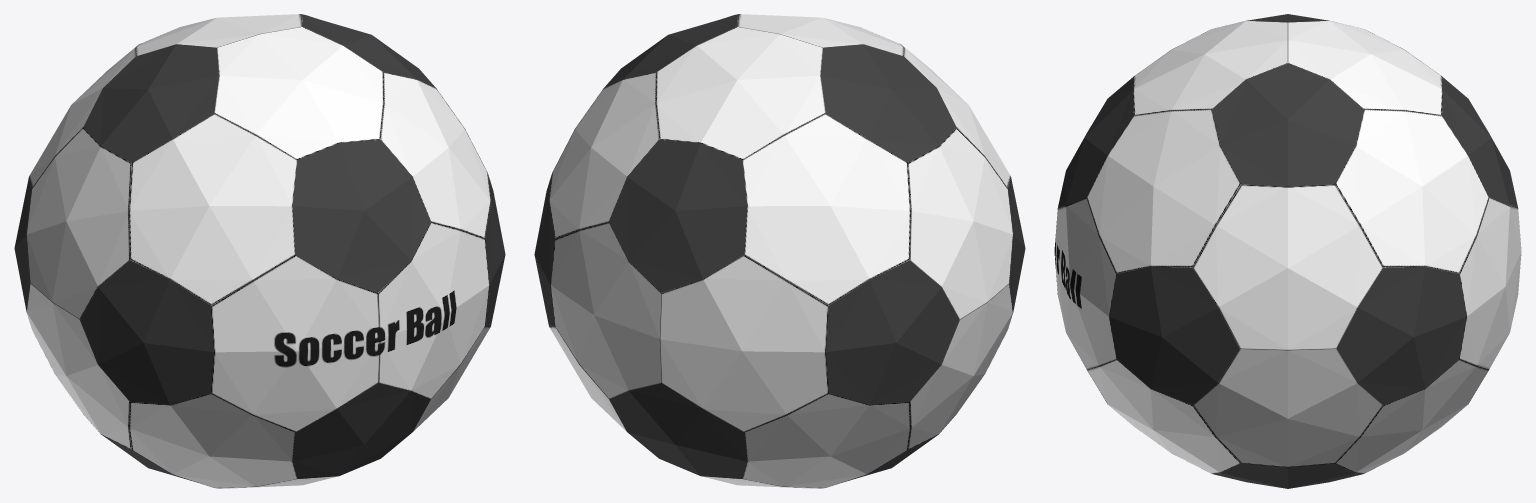
File: SoccerBall.fbx
3 renders of one model, left to right at view 1: azimuth 30°, elevation 25°; view 2: azimuth 150°, elevation 25°; view 3: azimuth 270°, elevation 25°, orthographic. The views are drawn at different scales.
Parts seen in each view (by area): view 1: Mesh; view 2: Mesh; view 3: Mesh.
Part boxes in pixels (left/top/right/bottom): Mesh: left=14, top=14, right=505, bottom=488; Mesh: left=534, top=14, right=1025, bottom=488; Mesh: left=1054, top=14, right=1521, bottom=488.
Bounding box in the file's own units: 22.73 × 22.73 × 22.73.
Materials: 1 (1 with a texture image).
